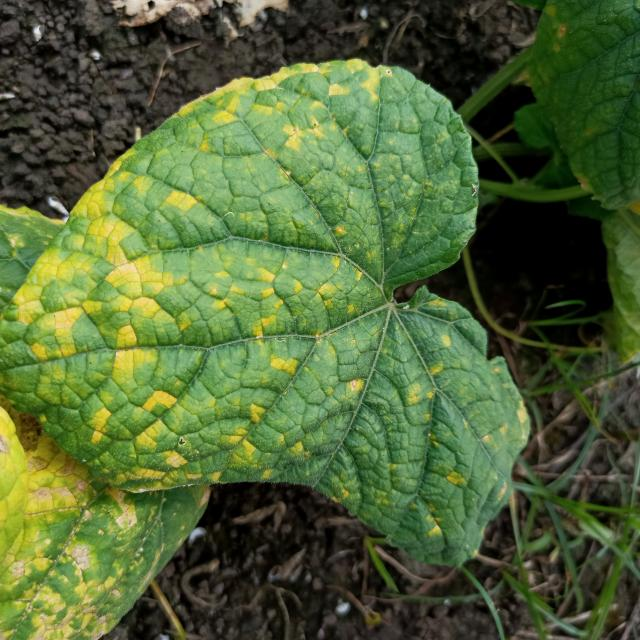disease_cucumber: (15, 76, 532, 544)
